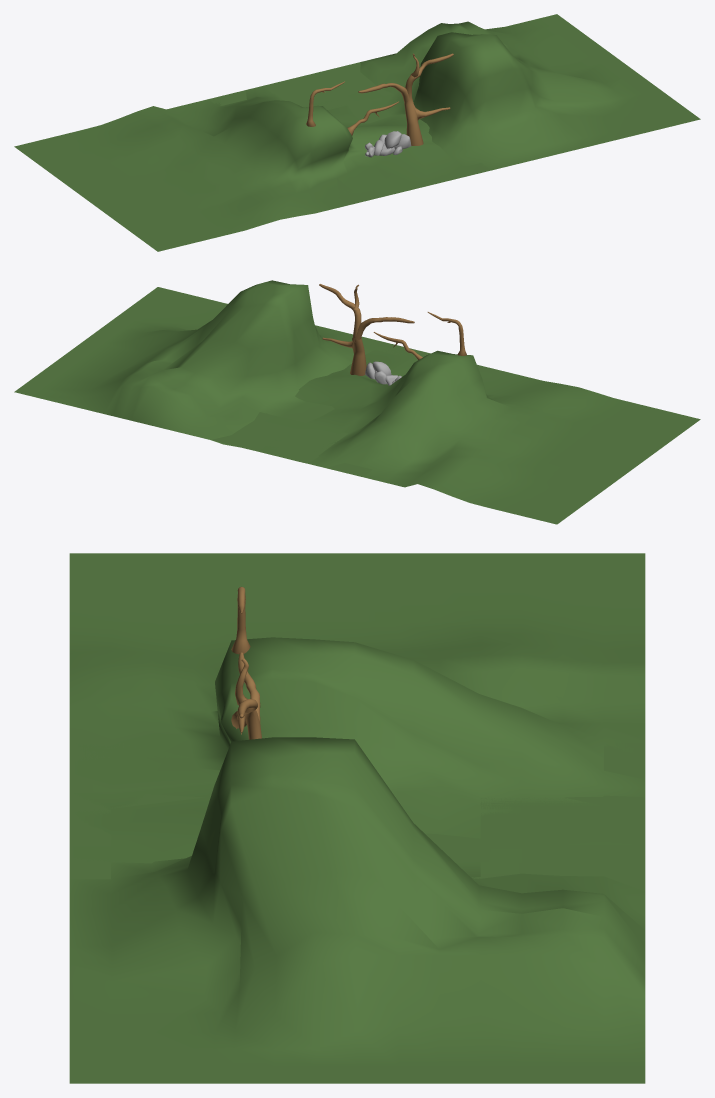
File: terreno-com-arvores-e-pedras_lv3.fbx
3 renders of one model, top to bottom at view 1: azimuth 30°, elevation 25°; view 2: azimuth 150°, elevation 25°; view 3: azimuth 270°, elevation 25°, orthographic. The views are drawn at different scales.
Visible parts, largest first — view 1: pPlane1, pPlane3, pCylinder8; view 2: pPlane1, pPlane3, pCylinder8; view 3: pPlane3, pPlane1.
Boxes of the visible parts, left/top/right/bottom form: pPlane1: left=14, top=62, right=491, bottom=251; pPlane3: left=208, top=14, right=700, bottom=204; pCylinder8: left=404, top=53, right=453, bottom=145; pPlane1: left=211, top=340, right=700, bottom=524; pPlane3: left=14, top=280, right=505, bottom=476; pCylinder8: left=319, top=284, right=366, bottom=375; pPlane3: left=69, top=737, right=645, bottom=1083; pPlane1: left=69, top=553, right=645, bottom=891.
Bounding box in the file's own units: 65.4 × 10.94 × 30.
